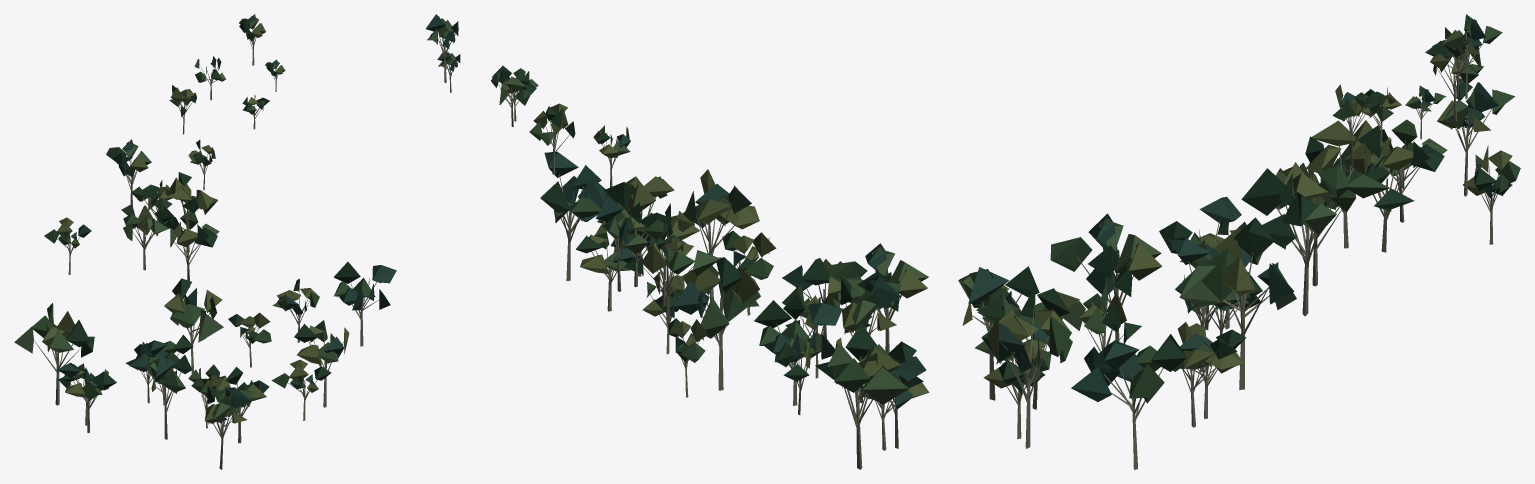
File: forest_17_23.dae
3 renders of one model, left to right at view 1: azimuth 30°, elevation 25°; view 2: azimuth 150°, elevation 25°; view 3: azimuth 270°, elevation 25°, orthographic. The views are drawn at different scales.
Visible parts, largest first — view 1: Node; view 2: Node; view 3: Node.
Boxes of the visible parts, x1=… form: Node: x1=14, y1=14, x2=396, y2=469; Node: x1=425, y1=14, x2=929, y2=469; Node: x1=958, y1=14, x2=1520, y2=469.
Size of the model in its own units: 11.82 by 10.61 by 10.94.
